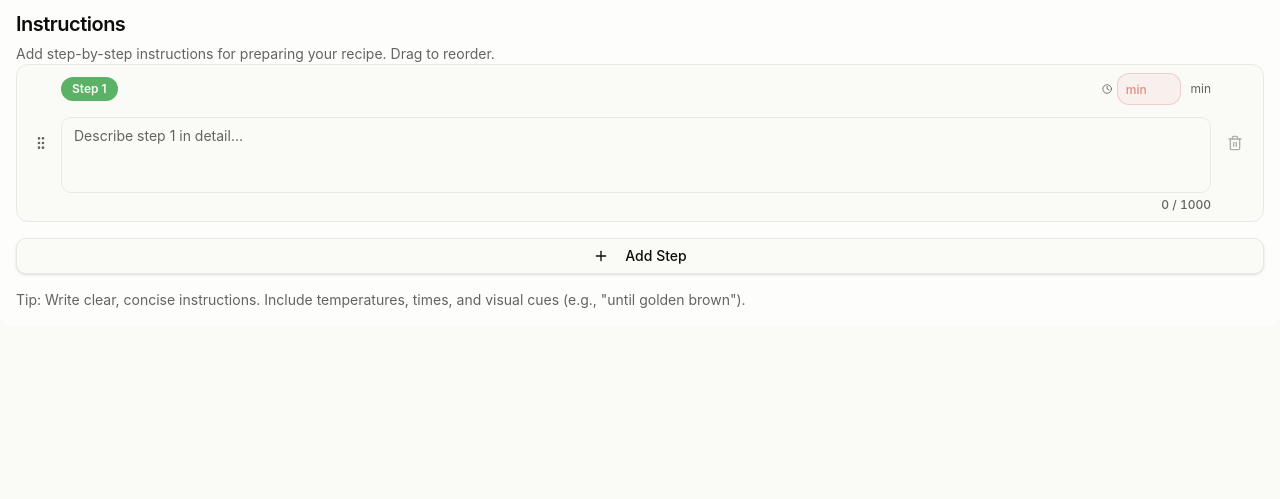
Test: InstructionsStep › Adding steps › should add new step when Add Step button is clicked
Expected: the text "Step 1" is shown, [61,77,118,101]
Expected: the text "Step 2" is not shown
Note: Click add button
Click the button "Add Step".
click(640, 256)  # box [16,238,1264,274]
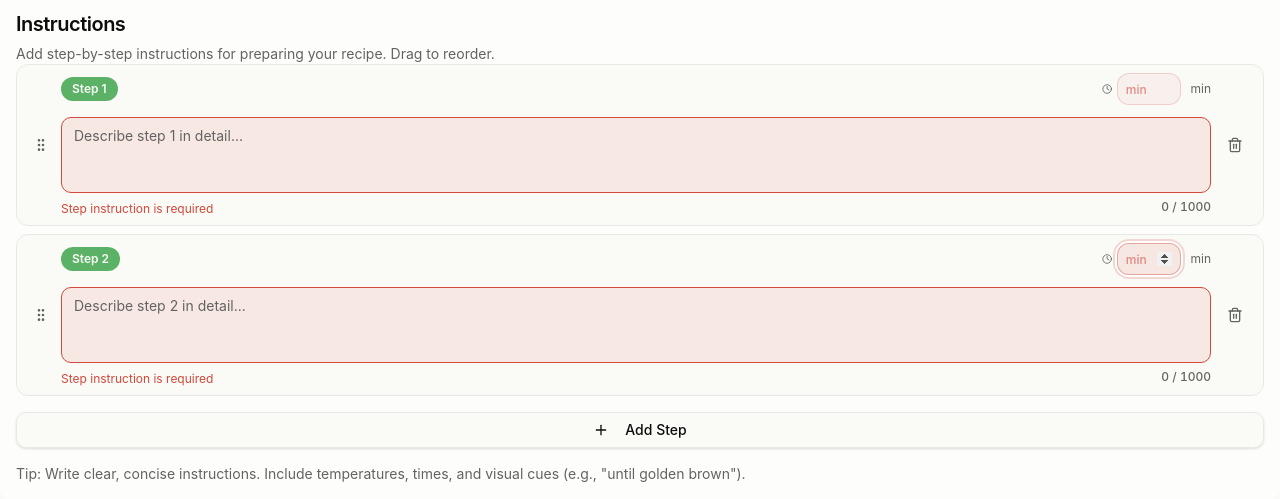
Expected: the text "Step 1" is shown, [61,77,118,101]
Expected: the text "Step 2" is shown, [61,247,120,271]
